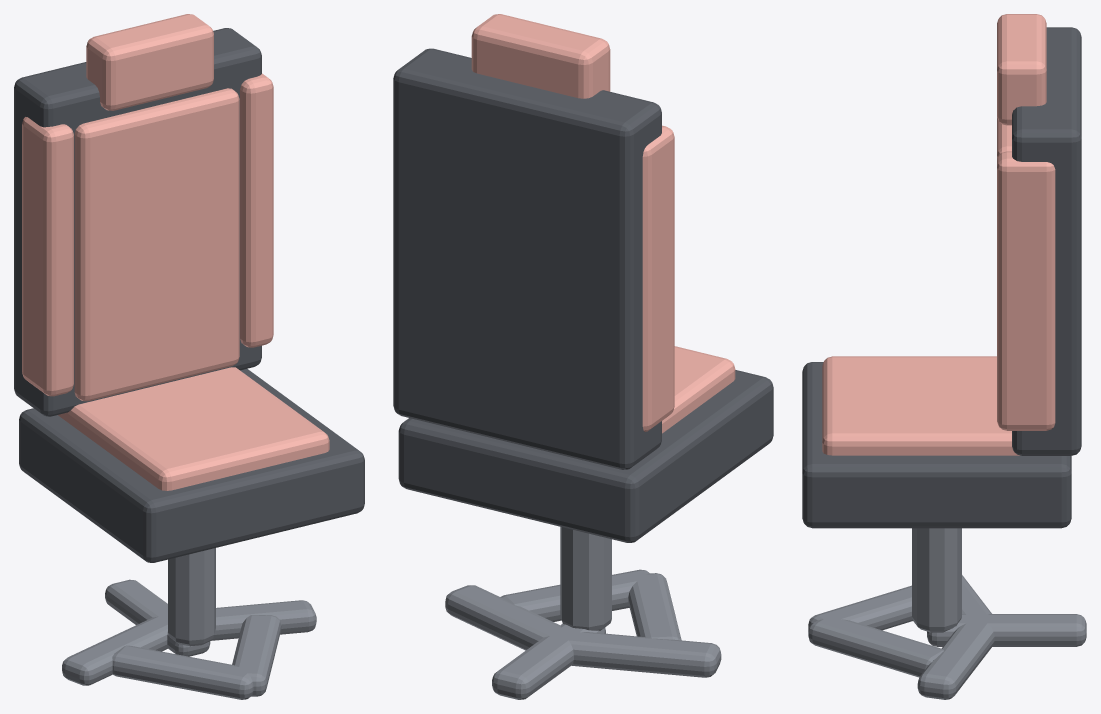
File: GamingChair.fbx
3 renders of one model, left to right at view 1: azimuth 30°, elevation 25°; view 2: azimuth 150°, elevation 25°; view 3: azimuth 270°, elevation 25°, orthographic. The views are drawn at different scales.
Visible parts, largest first — view 1: GamingChair; view 2: GamingChair; view 3: GamingChair.
Part boxes in pixels (x1,y1,x2,y2): GamingChair: (14,14,364,699); GamingChair: (393,14,773,699); GamingChair: (802,14,1086,699).
Size of the model in its own units: 0.5841 by 1.33 by 0.57.
